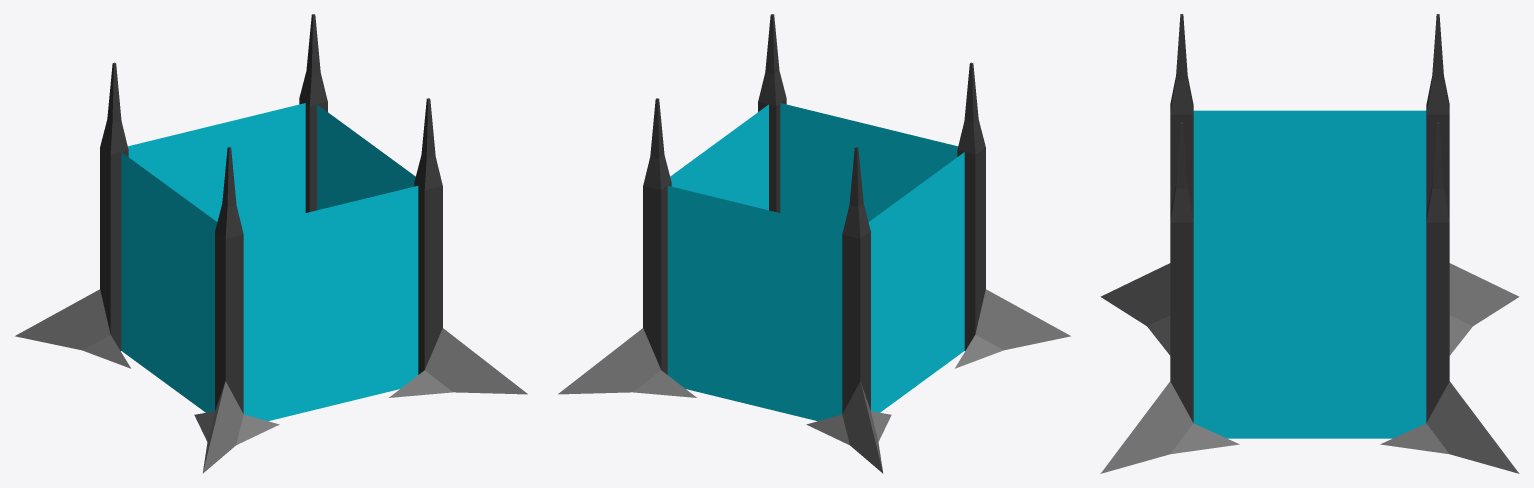
File: 3Dhakki.fbx
3 views of the same model, side by side, from view 1: azimuth 30°, elevation 25°; view 2: azimuth 150°, elevation 25°; view 3: azimuth 270°, elevation 25° (orthographic). The views are drawn at different scales.
Visible parts, largest first — view 1: Cube.002, Cube.001; view 2: Cube.002, Cube.001; view 3: Cube.002, Cube.001.
Part boxes in pixels (left/top/right/bottom): Cube.002: left=121, top=103, right=418, bottom=421; Cube.001: left=15, top=14, right=527, bottom=473; Cube.002: left=667, top=103, right=964, bottom=421; Cube.001: left=558, top=14, right=1070, bottom=473; Cube.002: left=1193, top=110, right=1426, bottom=438; Cube.001: left=1100, top=14, right=1519, bottom=473.
Size of the model in its own units: 600 by 500 by 600.
Materials: 2 (2 with a texture image).
